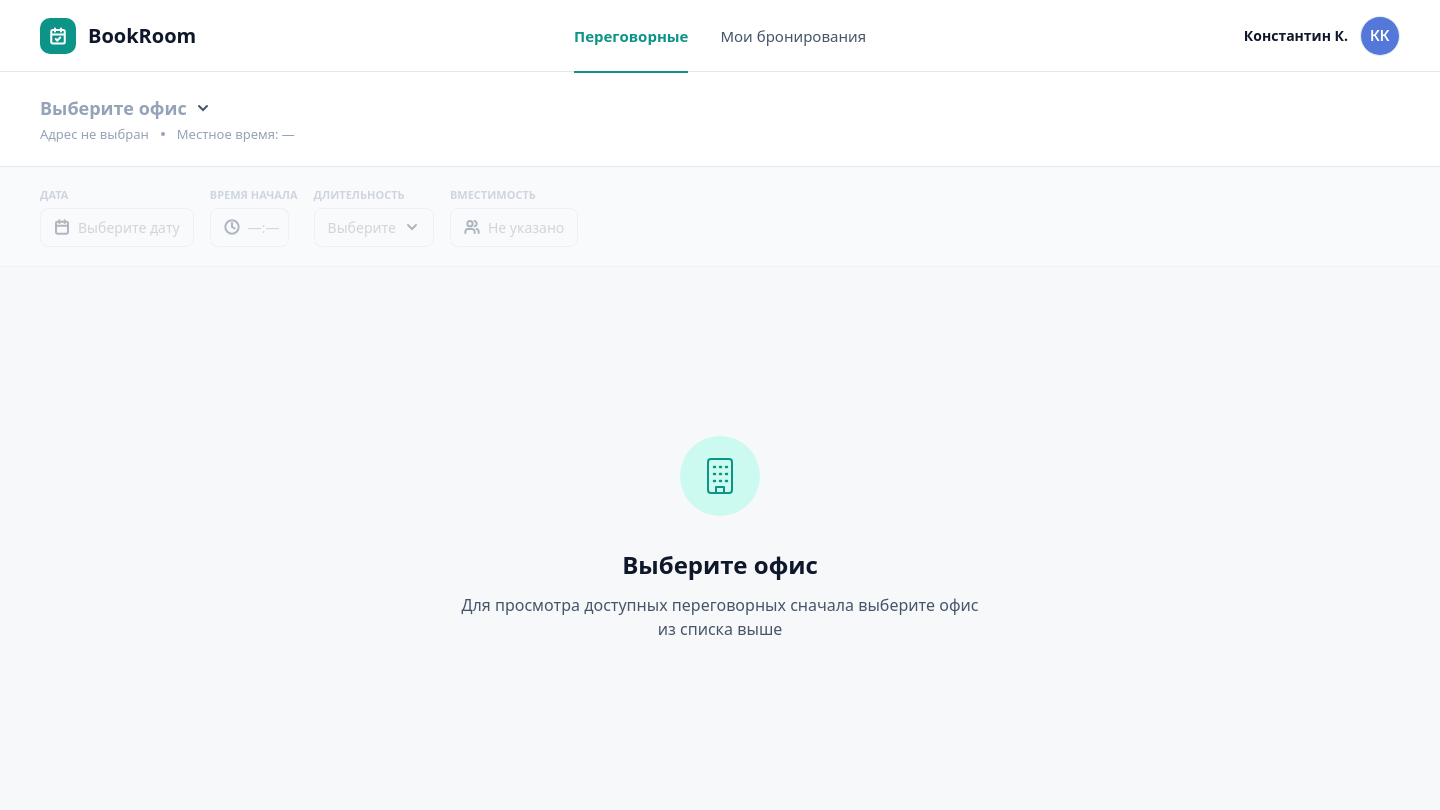
Test: App layout › позволяет выбрать другой офис
Step 1. Click the dropdown labelled "Выберите офис" → (125,108), box [40,96,211,120]
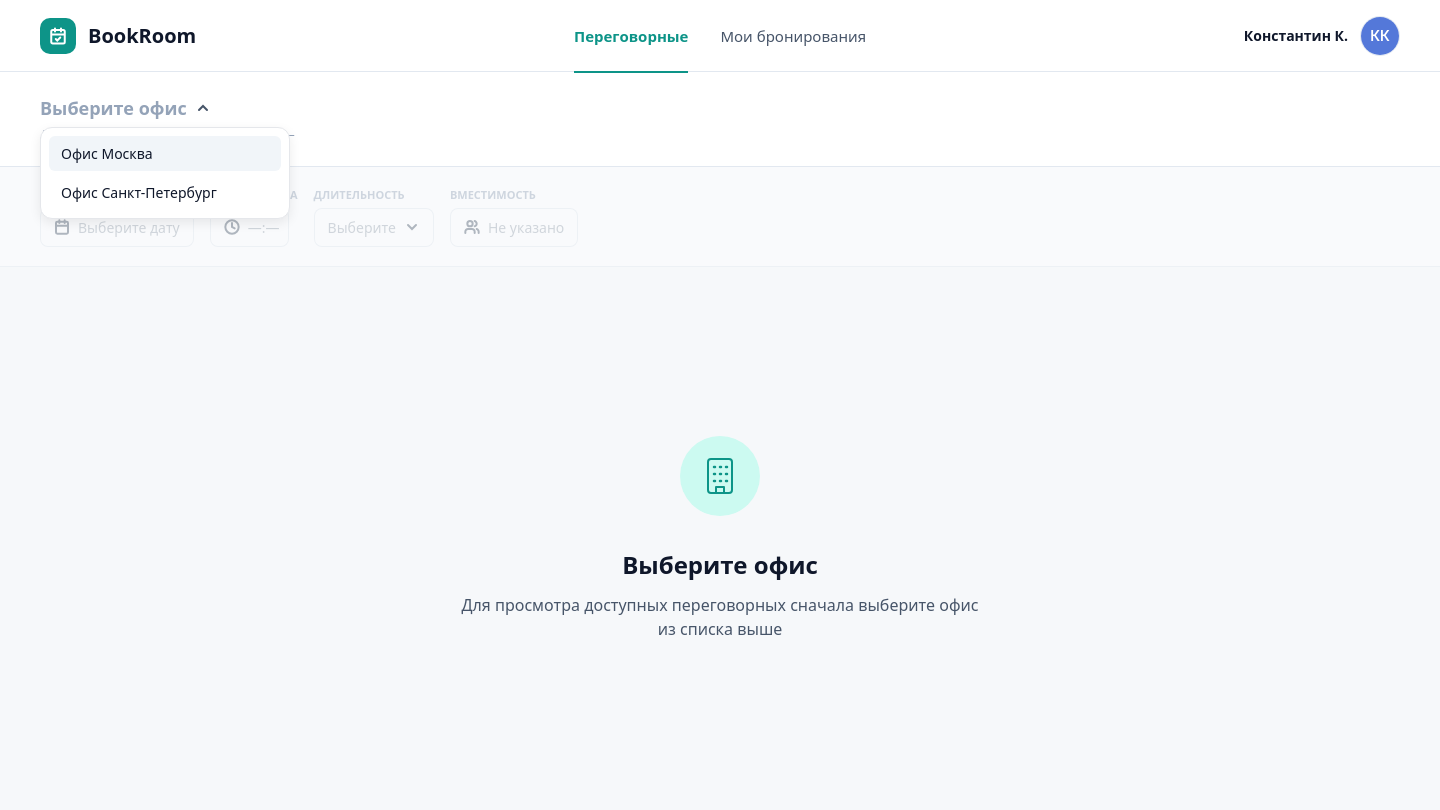
Step 2. Click the option "Офис Санкт-Петербург" → (165,192), box [49,174,281,210]
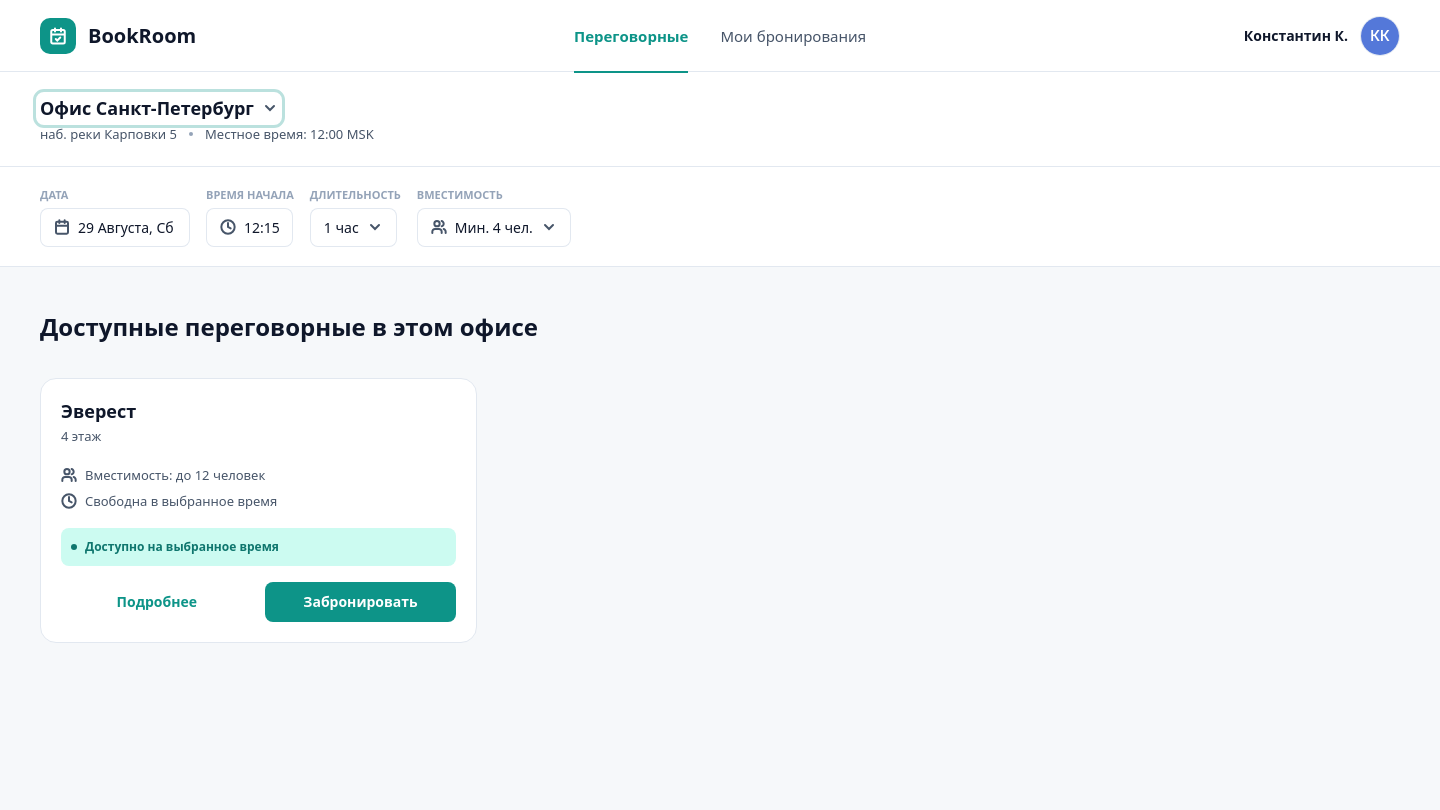
Expected: the element "Офис Санкт-Петербург" is shown, [0,72,1439,167]
Expected: the text "наб. реки Карповки 5" is shown, [40,124,177,142]
